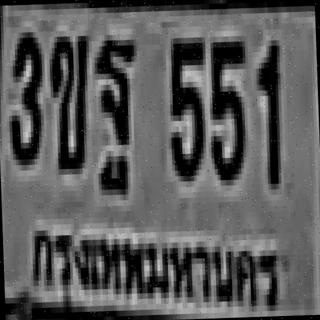A02: (46, 30, 90, 170)
A16: (92, 31, 136, 170)
N01: (255, 35, 281, 184)
N03: (3, 26, 42, 160)
N05: (205, 36, 247, 180), (165, 32, 207, 176)
P04: (26, 210, 284, 320)
